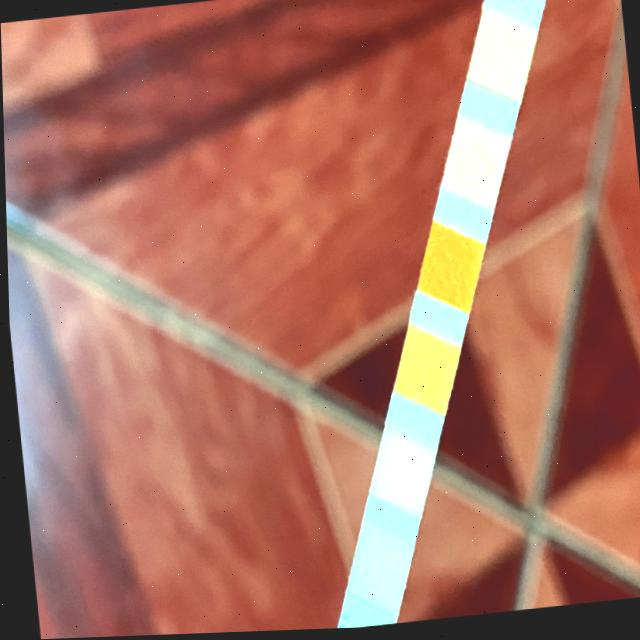Bilirubin: (355, 537, 398, 608)
Blood: (423, 237, 473, 298)
Ketone: (379, 441, 422, 508)
Protein: (477, 27, 526, 87)
SpGravity: (405, 340, 447, 404)
pH: (453, 132, 498, 196)
